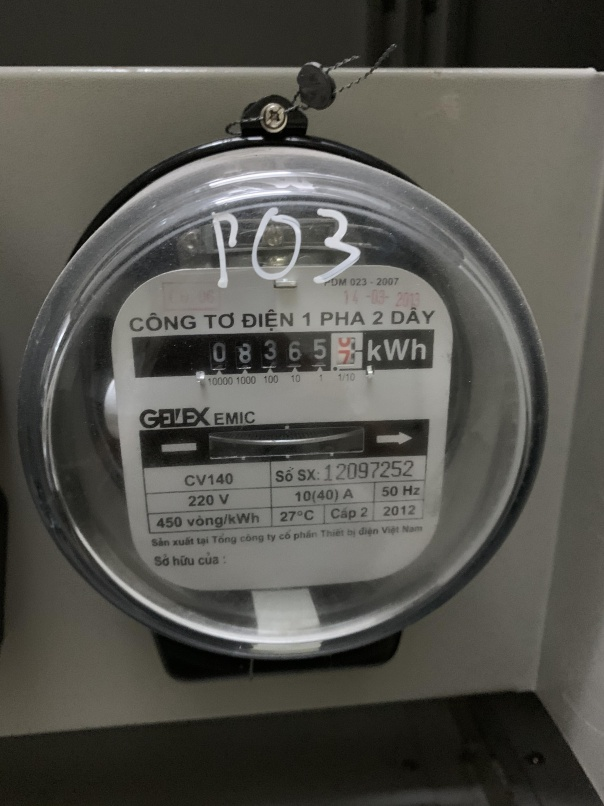counter: (129, 332, 436, 372)
electricity_meter: (16, 178, 549, 666)
